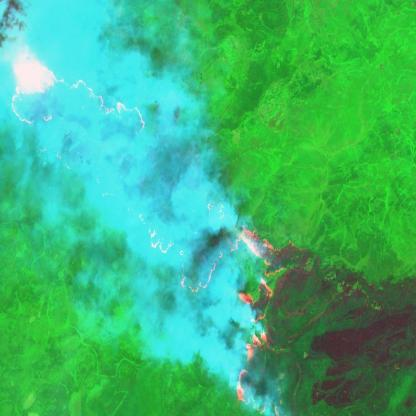fire: (136, 193, 290, 416), (9, 50, 150, 143)
